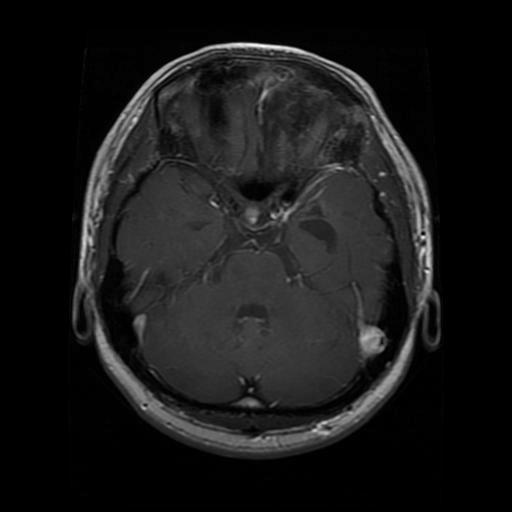Tumour-Glioma: (298, 199, 333, 267)
